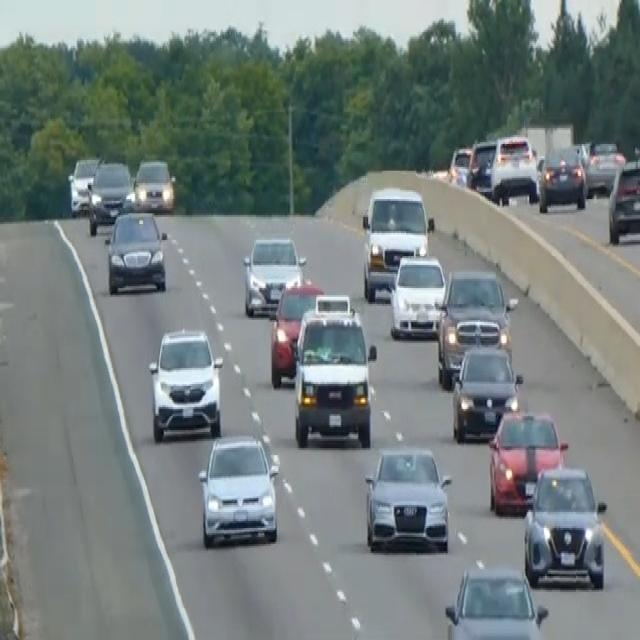car: (522, 464, 607, 588), (435, 266, 517, 388), (363, 443, 452, 553), (197, 430, 279, 548), (147, 323, 223, 442), (487, 405, 567, 514), (444, 564, 548, 638), (451, 343, 523, 443), (269, 278, 323, 388), (104, 208, 168, 295), (242, 233, 306, 316), (389, 250, 446, 340), (87, 158, 133, 235), (490, 132, 538, 204), (537, 144, 587, 212), (607, 156, 639, 244), (132, 156, 175, 212), (584, 137, 626, 194), (67, 155, 101, 215), (466, 137, 496, 195), (447, 144, 473, 187)
minivan: (291, 298, 377, 449), (360, 183, 434, 302)
